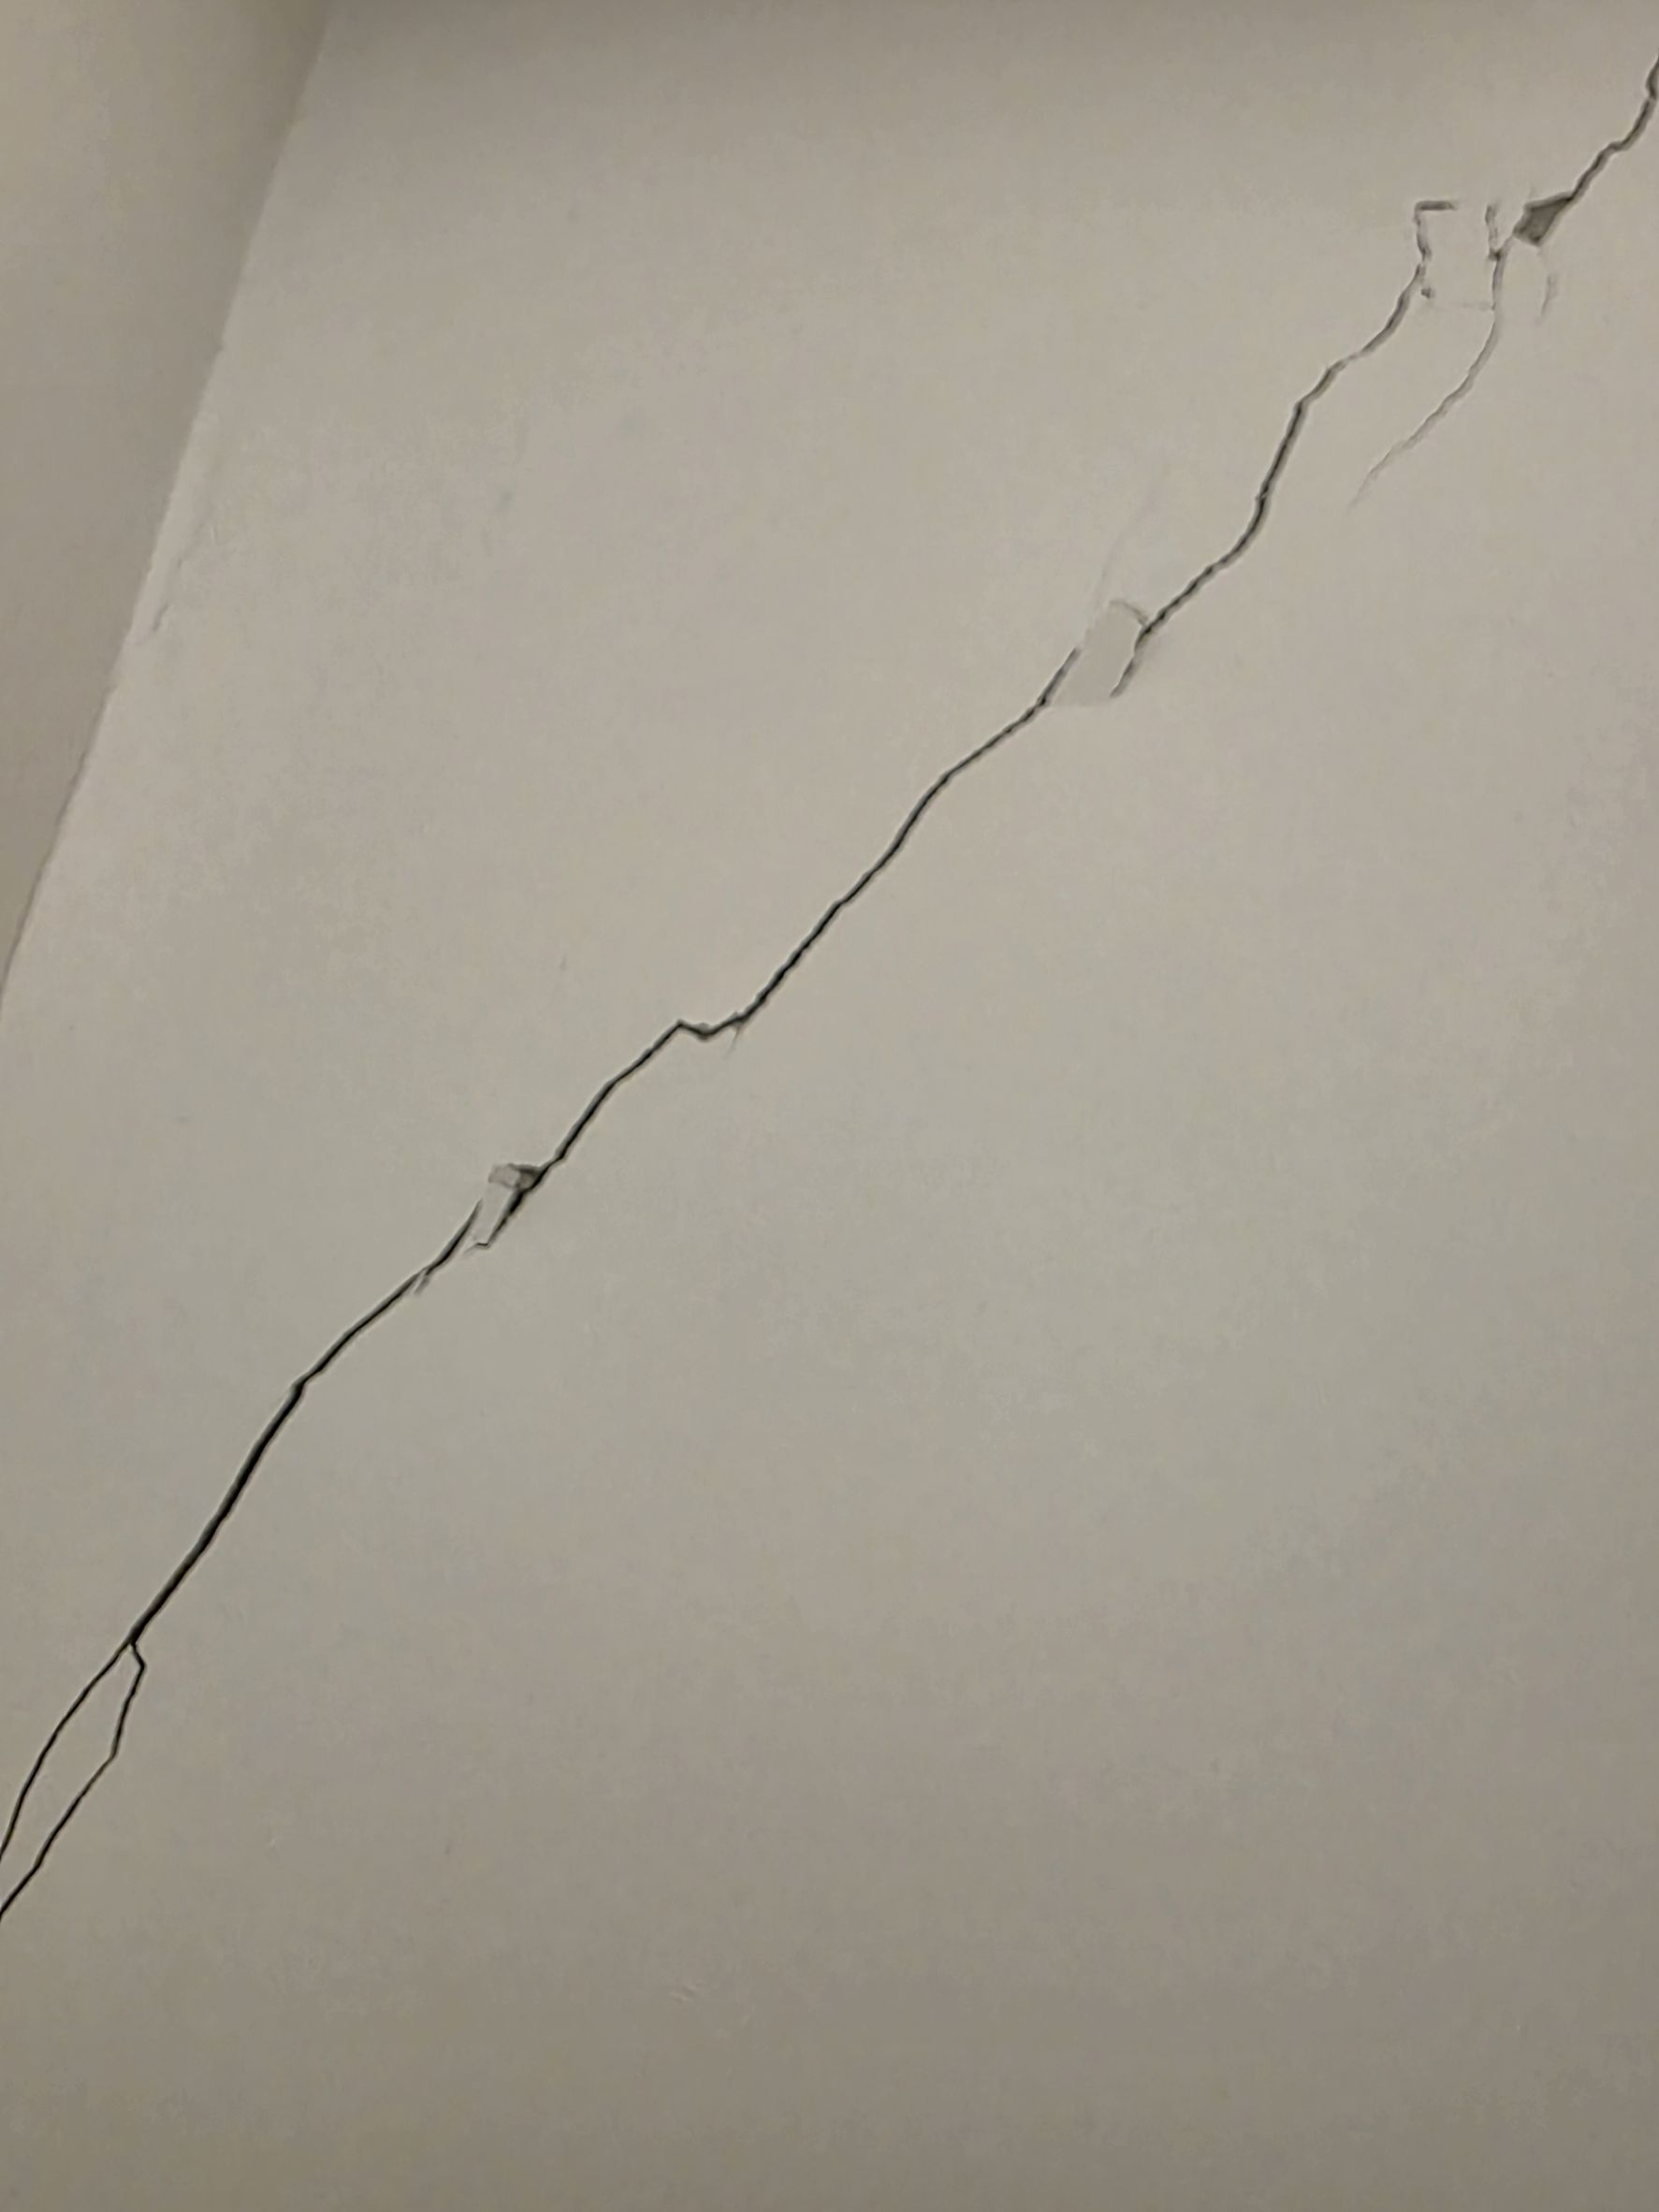Medium: (28, 408, 1434, 1796)
